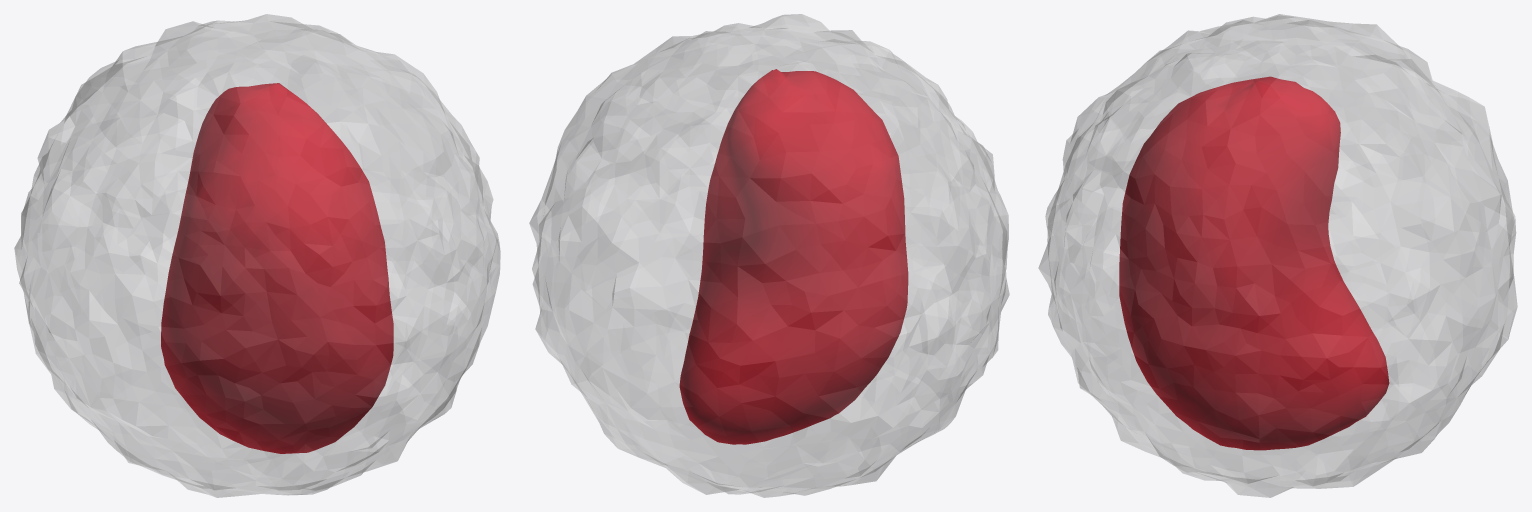
The model's file is MONOSIT.obj.
The picture shows the model from 3 angles, left to right: view 1: azimuth 30°, elevation 25°; view 2: azimuth 150°, elevation 25°; view 3: azimuth 270°, elevation 25°; orthographic projection.
Parts seen in each view (by area): view 1: Sphere.001_Sphere.002_Sphere.001_Sphere.002_Material.023, Sphere.001_Sphere.002_Sphere.001_Sphere.002_Material.022; view 2: Sphere.001_Sphere.002_Sphere.001_Sphere.002_Material.023, Sphere.001_Sphere.002_Sphere.001_Sphere.002_Material.022; view 3: Sphere.001_Sphere.002_Sphere.001_Sphere.002_Material.023, Sphere.001_Sphere.002_Sphere.001_Sphere.002_Material.022.
Part boxes in pixels (box(x1,y1,x2,y2)): Sphere.001_Sphere.002_Sphere.001_Sphere.002_Material.023: box(14, 14, 500, 497); Sphere.001_Sphere.002_Sphere.001_Sphere.002_Material.022: box(161, 83, 393, 453); Sphere.001_Sphere.002_Sphere.001_Sphere.002_Material.023: box(529, 14, 1009, 497); Sphere.001_Sphere.002_Sphere.001_Sphere.002_Material.022: box(679, 69, 908, 444); Sphere.001_Sphere.002_Sphere.001_Sphere.002_Material.023: box(1038, 14, 1517, 497); Sphere.001_Sphere.002_Sphere.001_Sphere.002_Material.022: box(1119, 76, 1389, 450).
Bounding box in the file's own units: 2.07 × 2.06 × 2.07.
